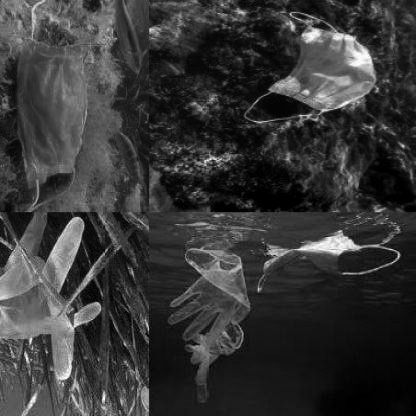Mask: (4, 0, 94, 211), (241, 11, 377, 123), (251, 223, 401, 297)
glove: (0, 212, 111, 386), (167, 242, 249, 414)
